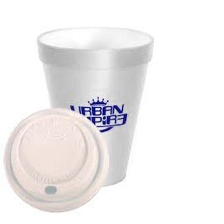paper_cup: (33, 20, 158, 191)
